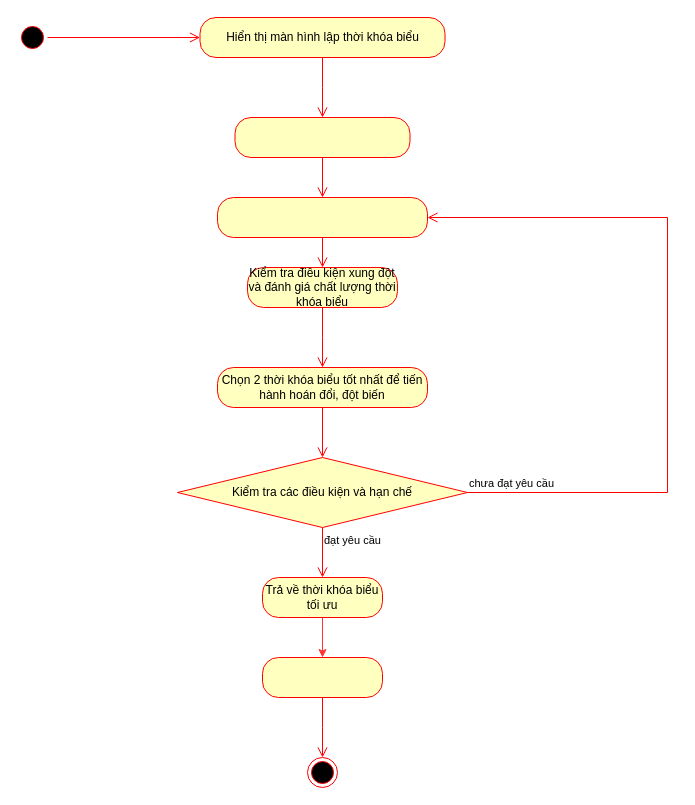
Image size: 695x805. Some labels were removed from this diagram. The shapes that lost their labels are listed below. From the top down, each one's centre as x and y in pixels, then its label:
the point at 322,137: Nhập thông tin (môn học, số lượng sinh viên)
the point at 322,217: Khởi tạo quẩn thể thời khóa biểu ngẫu nhiên dựa trên yêu cầu
the point at 322,677: giáo vụ xác nhận và điều chỉnh thủ công
